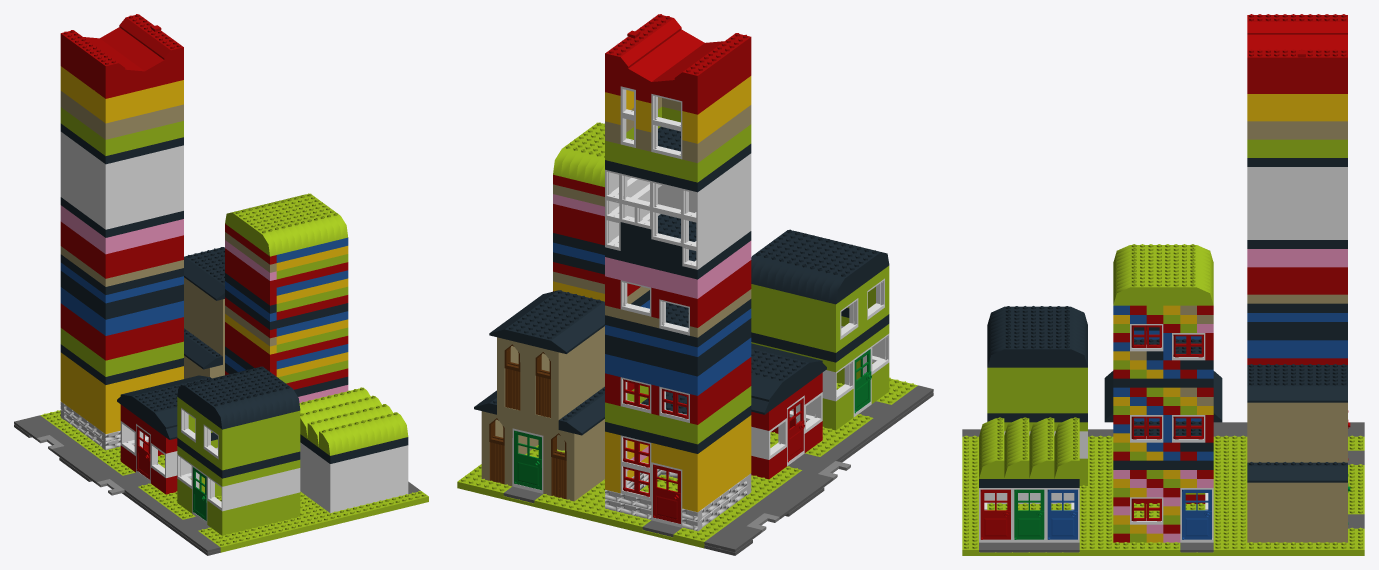
Rendered from Block1-lod2.fbx.
The picture shows the model from 3 angles, left to right: view 1: azimuth 30°, elevation 25°; view 2: azimuth 150°, elevation 25°; view 3: azimuth 270°, elevation 25°; orthographic projection. The views are drawn at different scales.
Parts seen in each view (by area): view 1: Material_119, Material_21, Material_26, Material_1, Material_24, Material_5, Material_23, Material_199, Material_222, Material_208, Material_28; view 2: Material_26, Material_119, Material_21, Material_1, Material_5, Material_24, Material_199, Material_23, Material_222, Material_192, Material_208, Material_28 (+1 smaller); view 3: Material_119, Material_26, Material_21, Material_5, Material_1, Material_23, Material_24, Material_222, Material_199, Material_28.
Part boxes in pixels (x1,y1,x2,y2): Material_119: [40, 107, 428, 552]; Material_21: [60, 14, 348, 494]; Material_26: [60, 123, 408, 478]; Material_1: [60, 132, 408, 524]; Material_24: [60, 66, 348, 433]; Material_5: [60, 91, 276, 378]; Material_23: [60, 237, 348, 371]; Material_199: [14, 415, 420, 555]; Material_222: [60, 205, 348, 402]; Material_208: [60, 402, 120, 450]; Material_28: [193, 467, 206, 521]; Material_26: [474, 126, 889, 453]; Material_119: [457, 106, 917, 548]; Material_21: [553, 14, 822, 523]; Material_1: [512, 86, 889, 527]; Material_5: [481, 97, 751, 501]; Material_24: [553, 76, 751, 512]; Material_199: [503, 385, 933, 555]; Material_23: [553, 242, 751, 395]; Material_222: [553, 194, 751, 470]; Material_192: [489, 344, 566, 499]; Material_208: [605, 469, 751, 531]; Material_28: [514, 349, 871, 490]; Material_119: [962, 139, 1364, 555]; Material_26: [979, 158, 1347, 487]; Material_21: [980, 14, 1350, 542]; Material_5: [1130, 121, 1347, 542]; Material_1: [979, 167, 1347, 542]; Material_23: [1047, 305, 1347, 539]; Material_24: [1113, 94, 1347, 542]; Material_222: [1113, 249, 1347, 542]; Material_199: [962, 422, 1364, 552]; Material_28: [1014, 474, 1350, 539].
Bounding box in the file's own units: 28.8 × 46.08 × 38.4.
